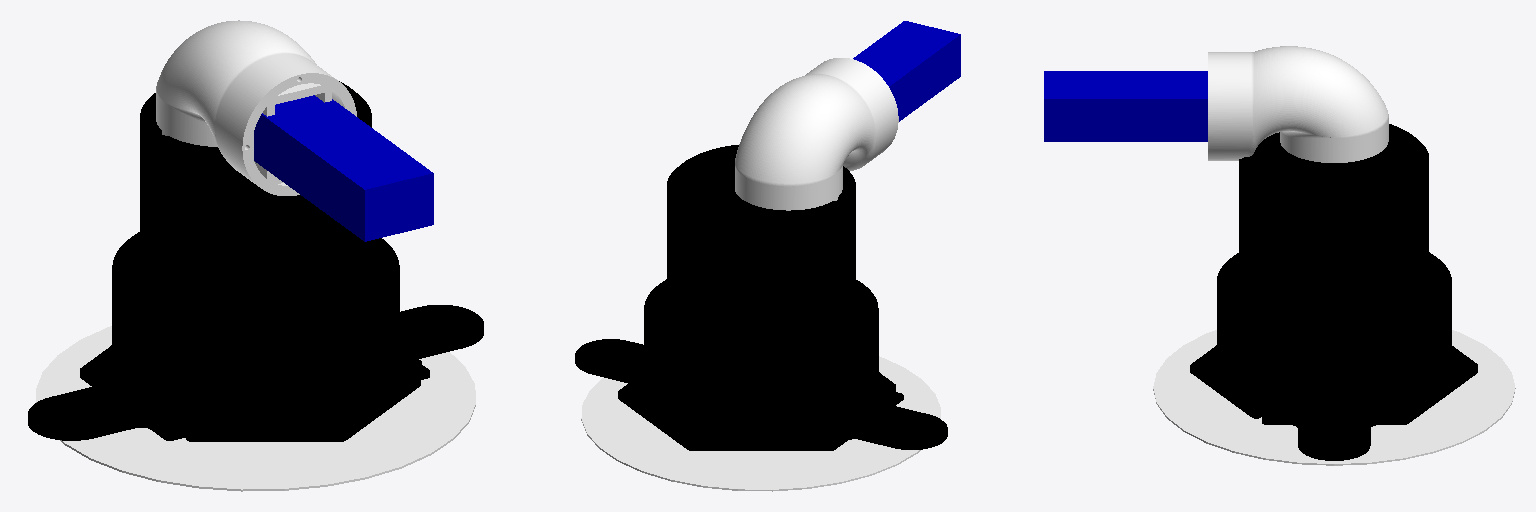
URDF robot description (node11):
<?xml version="1.0"?>
<robot  name="node11" >
 <material  name="blue" >
  <color  rgba="0 0 0.8 1.0" />
 </material>
 <material  name="red" >
  <color  rgba="0.8 0 0 1.0" />
 </material>
 <material  name="white" >
  <color  rgba="1.0 1.0 1.0 0.4" />
 </material>
 <material  name="black" >
  <color  rgba="0.0 0.0 0.0 1.0" />
 </material>
 <link  name="root_mod" >
  <visual >
   <origin  xyz="0 0 0"  rpy="0 0 0" />
   <material  name="white" />
   <geometry >
    <cylinder  length="0.001"  radius="0.1" />
   </geometry>
  </visual>
 </link>
 <link  name="baseMod_1" >
  <inertial >
   <origin  xyz="0.0 1.2212453270876722e-17 0.055"  rpy="1.5707963267948963 0.0 0.0" />
   <mass  value="1.245" />
   <inertia  iyz="1.5e-05"  ixx="0.002797"  ixz="-0.0"  ixy="-0.0"  izz="0.003107"  iyy="0.002417" />
  </inertial>
  <visual >
   <origin  xyz="0.0 1.2212453270876722e-17 0.055"  rpy="1.5707963267948963 0.0 0.0" />
   <material  name="black" />
   <geometry >
    <mesh  filename="./meshes/base-big-360.obj"  scale="0.001 0.001 0.001" />
   </geometry>
  </visual>
 </link>
 <joint  name="joint_1_fixed"  type="fixed" >
  <parent  link="root_mod" />
  <child  link="baseMod_1" />
  <origin  xyz="0.0 0.0 0.01"  rpy="0 0 0" />
  <limit  effort="50"  upper="3.14"  velocity="10"  lower="-3.14" />
 </joint>
 <link  name="connMod_2" >
  <inertial >
   <origin  xyz="0.0 4.440892098500626e-18 0.02"  rpy="1.5707963267948963 0.0 0.0" />
   <mass  value="0.263" />
   <inertia  iyz="-1.5e-05"  ixx="0.000226"  ixz="-0.0"  ixy="0.0"  izz="0.000125"  iyy="0.00023" />
  </inertial>
  <visual >
   <origin  xyz="0.0 4.440892098500626e-18 0.02"  rpy="1.5707963267948963 0.0 0.0" />
   <material  name="white" />
   <geometry >
    <mesh  filename="./meshes/90-connector.obj"  scale="0.001 0.001 0.001" />
   </geometry>
  </visual>
 </link>
 <joint  name="joint_2_revolute"  type="revolute" >
  <parent  link="baseMod_1" />
  <child  link="connMod_2" />
  <origin  xyz="-0.0175 2.964295475749168e-17 0.1335"  rpy="0 0 0" />
  <axis  xyz="0.0 0.0 1.0" />
  <limit  velocity="10"  upper="3.14"  effort="50"  lower="-3.14" />
 </joint>
 <transmission  name="act_joint_2_revolute" >
  <type  xmltext="SimpleTransmission" >
   SimpleTransmission
  </type>
  <actuator  name="trans_joint_2_revolute" >
   <mechanicalreduction  xmltext="1" >
    1
   </mechanicalreduction>
  </actuator>
  <joint  name="joint_2_revolute" />
 </transmission>
 <link  name="linkMod_3" >
  <inertial >
   <origin  xyz="-1.3766765505351941e-17 0.062 0.0"  rpy="0.0 0.0 -1.5707963267948963" />
   <mass  value="0.05" />
   <inertia  iyz="0.0"  ixx="6.5e-05"  ixz="0.0"  ixy="0.0"  izz="0.000206"  iyy="0.000206" />
  </inertial>
  <visual >
   <origin  xyz="-1.3766765505351941e-17 0.062 0.0"  rpy="0.0 0.0 -1.5707963267948963" />
   <material  name="blue" />
   <geometry >
    <mesh  filename="./meshes/link-100.obj"  scale="0.001 0.001 0.001" />
   </geometry>
  </visual>
 </link>
 <joint  name="joint_3_fixed"  type="fixed" >
  <parent  link="connMod_2" />
  <child  link="linkMod_3" />
  <origin  xyz="0.0 -0.05999999999999999 0.020000000000000014"  rpy="0 0 0" />
  <axis  xyz="0.0 -1.0 0.0" />
  <limit  effort="50"  upper="3.14"  velocity="10"  lower="-3.14" />
 </joint>
 <link  name="eef" />
 <joint  name="eef_joint"  type="fixed" >
  <parent  link="linkMod_3" />
  <child  link="eef" />
  <origin  xyz="2.2204460492503132e-17 -0.1 0.0"  rpy="0 0 0" />
  <axis  xyz="0.0 -1.0 0.0" />
  <limit  velocity="10"  upper="3.14"  effort="50"  lower="-3.14" />
 </joint>
</robot>

--- Render facts (derived) ---
Views: 3 orthographic renders of the robot side by side, from view 1: azimuth 30°, elevation 25°; view 2: azimuth 150°, elevation 25°; view 3: azimuth 270°, elevation 25°.
Robot: node11 — 5 links, 4 joints (1 revolute, 3 fixed); root link root_mod; default pose: every joint at zero.
Links seen in each view (by area): view 1: baseMod_1, root_mod, connMod_2, linkMod_3; view 2: baseMod_1, connMod_2, root_mod, linkMod_3; view 3: baseMod_1, connMod_2, root_mod, linkMod_3.
Boxes of the visible links, left/top/right/bottom form: baseMod_1: left=28, top=81, right=483, bottom=441; root_mod: left=36, top=326, right=475, bottom=491; connMod_2: left=156, top=20, right=356, bottom=195; linkMod_3: left=254, top=95, right=433, bottom=241; baseMod_1: left=575, top=145, right=947, bottom=450; connMod_2: left=735, top=58, right=898, bottom=210; root_mod: left=581, top=356, right=940, bottom=491; linkMod_3: left=853, top=21, right=960, bottom=121; baseMod_1: left=1190, top=124, right=1477, bottom=460; connMod_2: left=1208, top=46, right=1388, bottom=162; root_mod: left=1153, top=330, right=1515, bottom=465; linkMod_3: left=1044, top=71, right=1207, bottom=141.
Size in the robot's own frame: 0.2326 by 0.26 by 0.1975 metres.
3 mesh visuals loaded from 3 distinct referenced files (3 OBJ).